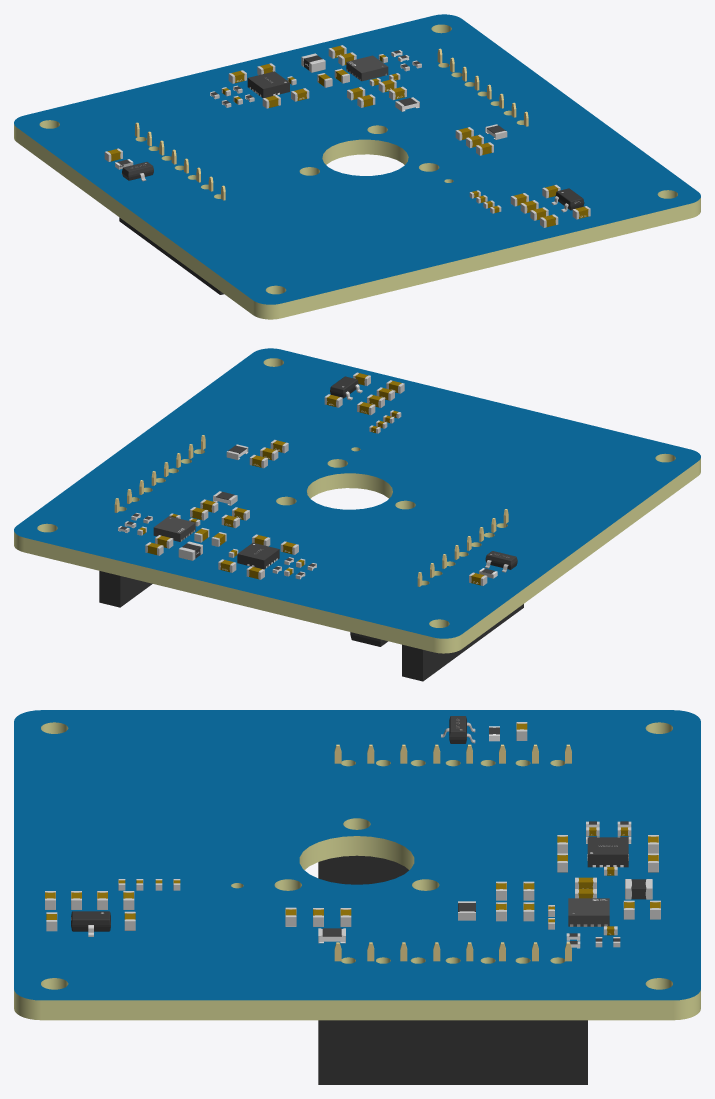
The model's file is top.glb.
3 renders of one model, top to bottom at view 1: azimuth 30°, elevation 25°; view 2: azimuth 150°, elevation 25°; view 3: azimuth 270°, elevation 25°, orthographic. The views are drawn at different scales.
Visible parts, largest first — view 1: pcb, top-z1, top-z3, top-z2; view 2: pcb, top-z1, top-z3, top-z2; view 3: pcb, top-z1, top-z3, top-z2.
Boxes of the visible parts, <box> form: pcb: <box>14,14,700,319</box>; top-z1: <box>210,45,491,111</box>; top-z3: <box>455,93,590,227</box>; top-z2: <box>104,131,225,294</box>; pcb: <box>14,348,700,653</box>; top-z1: <box>99,462,316,607</box>; top-z3: <box>176,372,404,468</box>; top-z2: <box>402,509,523,681</box>; pcb: <box>14,710,700,1020</box>; top-z1: <box>318,821,660,1084</box>; top-z3: <box>45,879,407,961</box>; top-z2: <box>318,716,538,884</box>.
Bounding box in the file's own units: 49.97 × 10.84 × 49.97.
